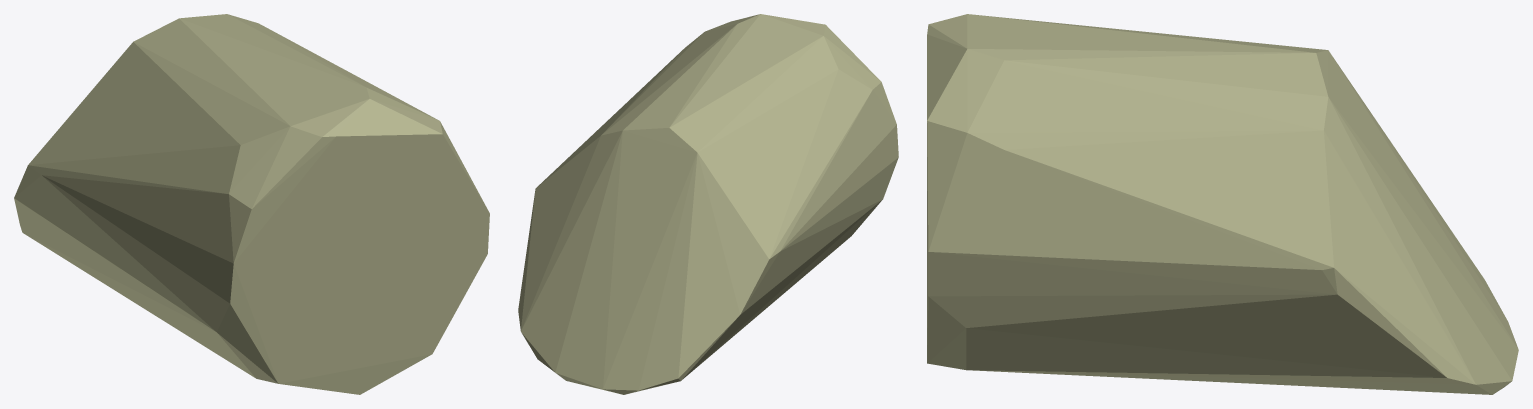
The model's file is pail_plastic_yellow_a02.glb.
3 renders of one model, left to right at view 1: azimuth 30°, elevation 25°; view 2: azimuth 150°, elevation 25°; view 3: azimuth 270°, elevation 25°, orthographic. The views are drawn at different scales.
Visible parts, largest first — view 1: geometry_0; view 2: geometry_0; view 3: geometry_0.
Part boxes in pixels (<box>): geometry_0: <box>14,14,489,394</box>; geometry_0: <box>518,14,898,394</box>; geometry_0: <box>927,14,1518,394</box>.
Size of the model in its own units: 0.3194 by 0.2976 by 0.479.
